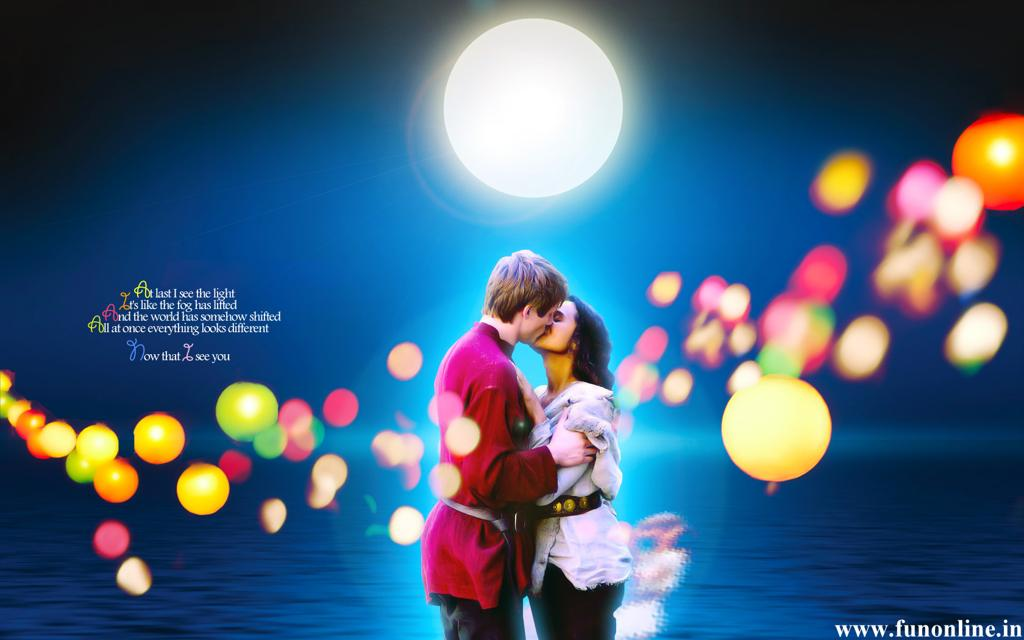face: (510, 275, 558, 343), (532, 299, 576, 348)
